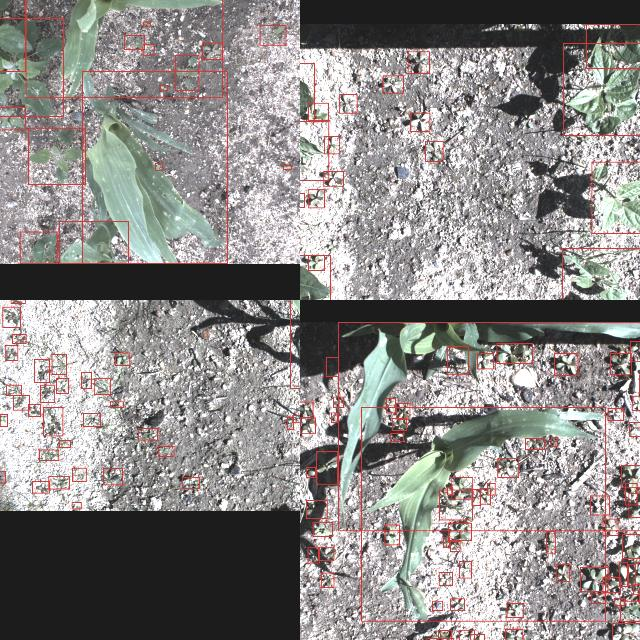crop: (338, 321, 640, 530), (360, 407, 606, 621), (82, 70, 226, 264), (25, 0, 222, 97), (562, 43, 640, 135), (561, 248, 640, 300), (590, 161, 640, 232), (59, 222, 128, 264), (585, 24, 640, 68), (300, 121, 328, 180), (300, 256, 330, 300), (52, 354, 66, 374)
weed: (0, 17, 63, 116), (27, 128, 84, 184), (19, 232, 56, 264), (438, 490, 472, 520), (174, 56, 198, 90), (496, 343, 532, 363), (580, 568, 608, 592), (316, 452, 336, 484), (447, 346, 468, 374), (42, 408, 62, 437), (0, 107, 25, 130), (554, 353, 578, 375), (259, 25, 285, 45), (611, 623, 640, 640), (622, 533, 640, 558), (619, 600, 640, 621), (408, 51, 428, 73), (610, 353, 630, 375), (620, 465, 640, 487), (452, 477, 472, 499), (409, 112, 429, 132), (498, 458, 518, 478), (424, 140, 442, 162), (448, 523, 470, 541), (308, 102, 328, 120), (2, 307, 20, 327), (306, 500, 326, 518), (201, 42, 221, 59), (590, 496, 608, 514), (124, 34, 144, 50), (382, 76, 402, 92), (323, 170, 343, 186), (102, 469, 122, 485), (34, 360, 48, 382), (339, 94, 356, 112), (308, 190, 324, 208), (628, 493, 640, 517), (384, 525, 398, 545), (312, 522, 332, 536), (94, 379, 110, 395), (477, 353, 493, 369), (602, 519, 618, 535), (324, 136, 338, 154), (12, 396, 30, 410), (555, 564, 569, 582), (506, 604, 524, 618), (602, 578, 620, 592), (48, 477, 68, 489), (624, 484, 636, 504), (326, 357, 338, 377), (308, 256, 324, 270), (114, 352, 130, 366), (40, 386, 54, 402), (300, 417, 314, 433), (137, 428, 157, 439), (629, 341, 640, 361), (524, 438, 544, 449), (82, 414, 100, 426), (396, 403, 409, 419), (321, 572, 334, 588), (38, 450, 58, 460), (504, 629, 522, 640), (72, 468, 86, 482), (438, 572, 452, 586), (32, 481, 48, 493), (56, 378, 68, 394), (607, 408, 623, 420), (459, 562, 471, 578), (618, 563, 626, 587), (300, 401, 312, 417), (317, 548, 333, 560), (5, 346, 18, 360), (628, 422, 640, 436), (392, 418, 406, 430), (182, 478, 198, 488), (157, 446, 173, 456), (81, 372, 91, 388), (546, 532, 554, 552), (479, 488, 489, 504), (470, 489, 480, 505), (627, 565, 635, 585), (308, 547, 318, 563), (458, 630, 473, 640), (142, 44, 154, 56), (28, 404, 40, 416), (11, 334, 25, 344), (6, 385, 20, 395), (385, 398, 395, 412), (450, 600, 464, 610), (590, 594, 604, 604), (631, 395, 640, 410), (437, 630, 450, 640), (390, 432, 402, 442), (635, 562, 640, 585), (450, 542, 460, 552), (333, 397, 343, 407), (432, 601, 442, 611), (486, 483, 494, 495), (59, 440, 70, 448), (0, 414, 7, 426), (470, 634, 484, 640), (614, 598, 624, 606), (306, 467, 314, 477), (291, 415, 300, 423), (287, 417, 293, 429), (550, 438, 558, 447), (443, 536, 449, 548), (633, 585, 640, 595), (331, 412, 337, 422), (154, 163, 162, 170), (0, 472, 5, 483), (72, 503, 80, 509), (110, 402, 122, 406), (446, 487, 452, 495), (300, 193, 303, 207), (10, 300, 24, 303), (282, 165, 292, 169), (142, 22, 150, 26), (160, 86, 167, 90)
